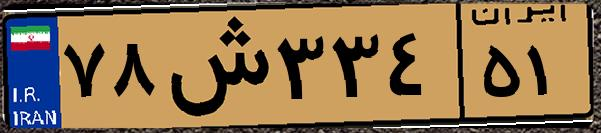1: (525, 38, 570, 115)
3: (270, 28, 330, 110), (330, 28, 385, 110)
4: (385, 28, 445, 110)
5: (475, 38, 525, 113)
7: (57, 26, 110, 100)
8: (110, 28, 158, 98)
ش: (158, 12, 270, 120)
